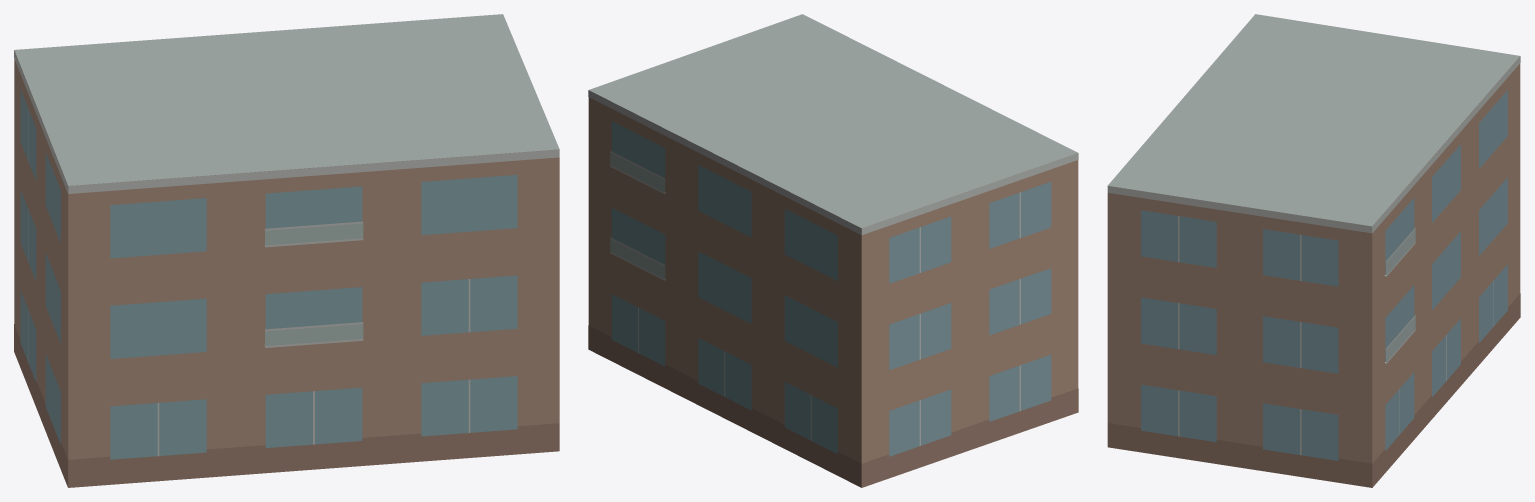
Rendered from survey-upis-32676764.glb.
3 renders of one model, left to right at view 1: azimuth 30°, elevation 25°; view 2: azimuth 150°, elevation 25°; view 3: azimuth 270°, elevation 25°, orthographic. The views are drawn at different scales.
Visible parts, largest first — view 1: survey-upis-32676764.tmp; view 2: survey-upis-32676764.tmp; view 3: survey-upis-32676764.tmp.
Part boxes in pixels (x1,y1,x2,y2): survey-upis-32676764.tmp: (14,14,559,487); survey-upis-32676764.tmp: (588,14,1078,487); survey-upis-32676764.tmp: (1107,14,1520,487).
Size of the model in its own units: 15.95 by 9.15 by 13.11.
